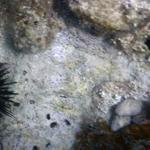dead: (21, 2, 143, 145)
